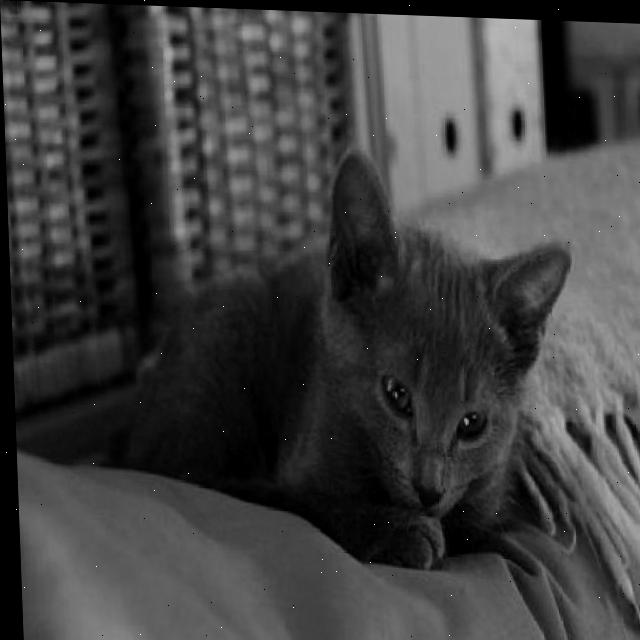Cat: (98, 137, 583, 576)
